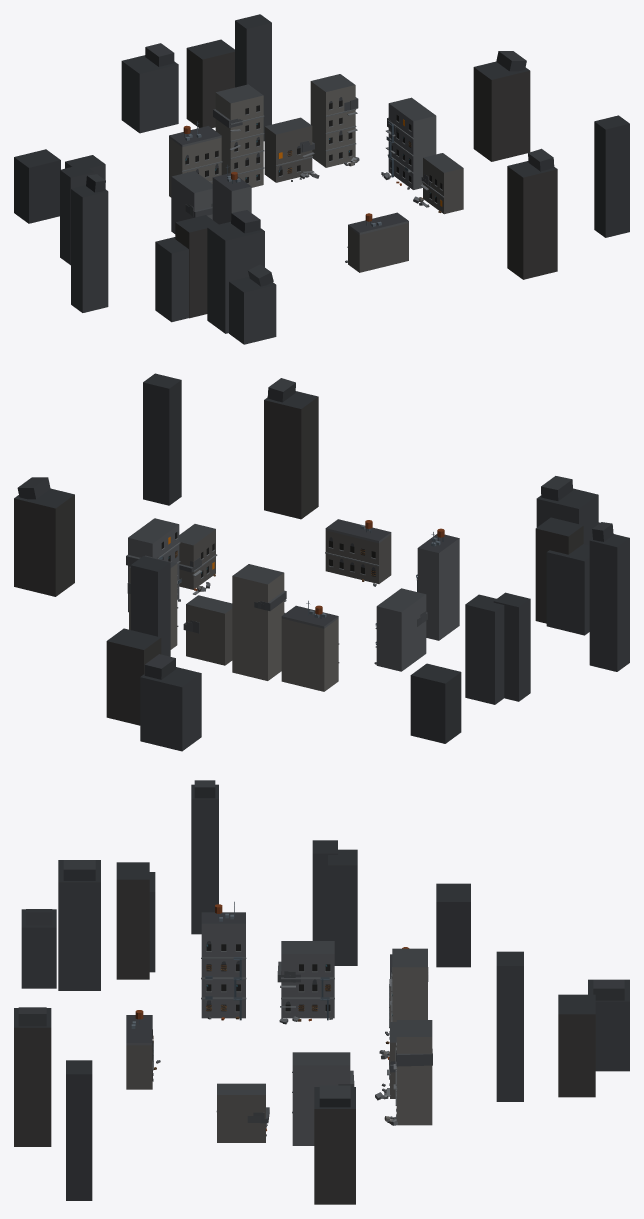
Rendered from Lobby_Backdrop.obj.
3 renders of one model, top to bottom at view 1: azimuth 30°, elevation 25°; view 2: azimuth 150°, elevation 25°; view 3: azimuth 270°, elevation 25°, orthographic. The views are drawn at different scales.
Parts seen in each view (by area): view 1: Skyline, Buildings; view 2: Skyline, Buildings; view 3: Skyline, Buildings.
Part boxes in pixels (x1,y1,x2,y2): Skyline: (14,14,629,344); Buildings: (169,74,463,272); Skyline: (14,373,629,751); Buildings: (126,518,459,691); Skyline: (14,780,629,1204); Buildings: (126,901,432,1145).
Bounding box in the file's own units: 304 × 75.69 × 278.
